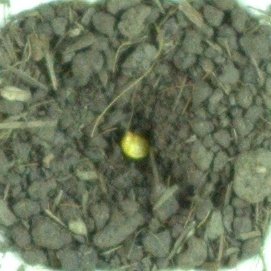pepper seed: (43, 48, 196, 209)
